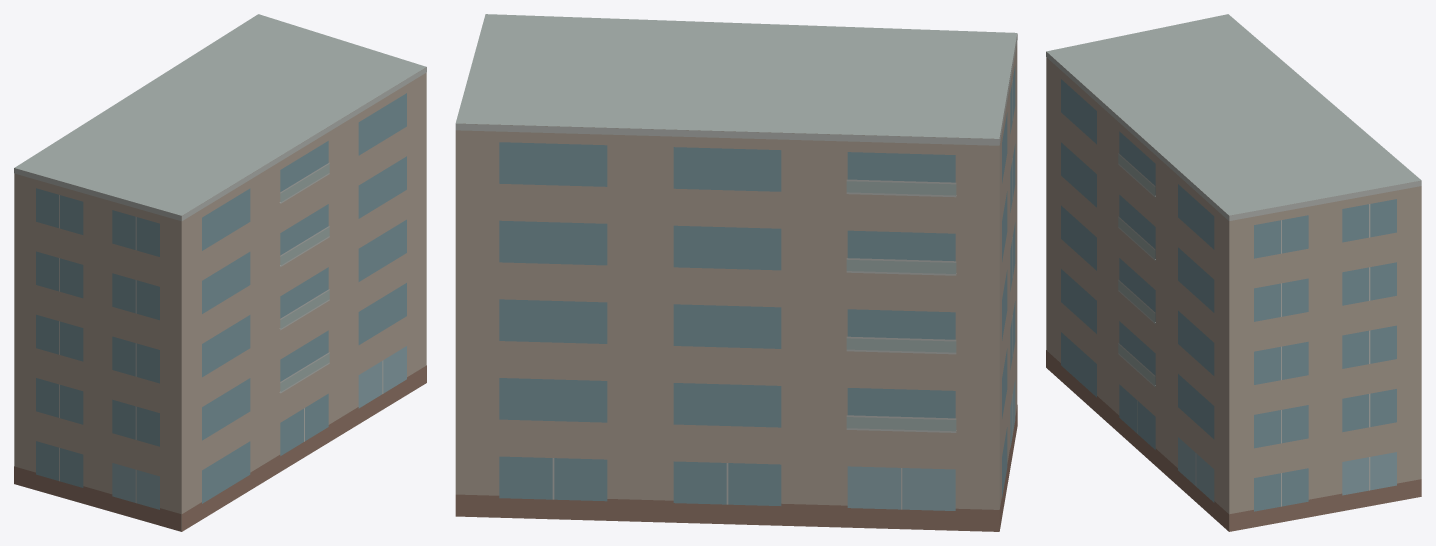
The model's file is survey-upis-33045105.glb.
3 views of the same model, side by side, from view 1: azimuth 30°, elevation 25°; view 2: azimuth 150°, elevation 25°; view 3: azimuth 270°, elevation 25° (orthographic). The views are drawn at different scales.
Parts seen in each view (by area): view 1: survey-upis-33045105.tmp; view 2: survey-upis-33045105.tmp; view 3: survey-upis-33045105.tmp.
Part boxes in pixels (x1,y1,x2,y2): survey-upis-33045105.tmp: (14,14,426,531); survey-upis-33045105.tmp: (455,14,1017,531); survey-upis-33045105.tmp: (1046,14,1421,531).
Bounding box in the file's own units: 19.16 × 14 × 15.08.
